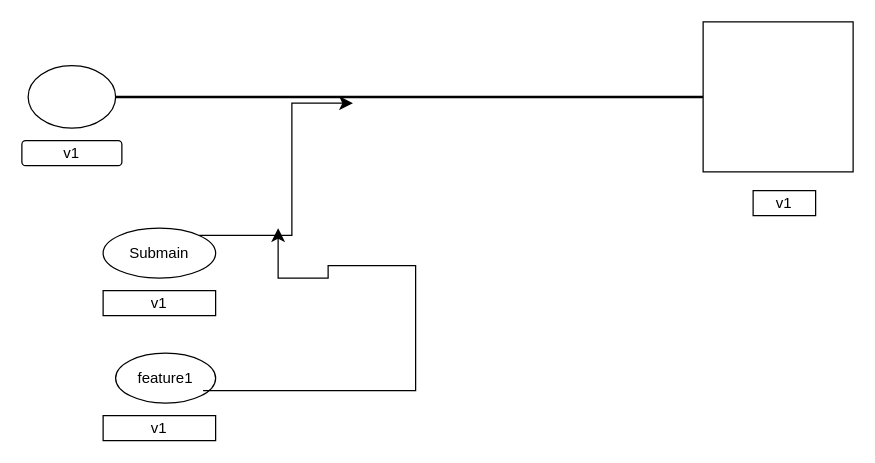
This 875x463 diagram has some shape labels left out. The centre of each missing label's shape, as x and y in pixels:
"live production" belongs at [777,96].
"Main" belongs at [71,96].
